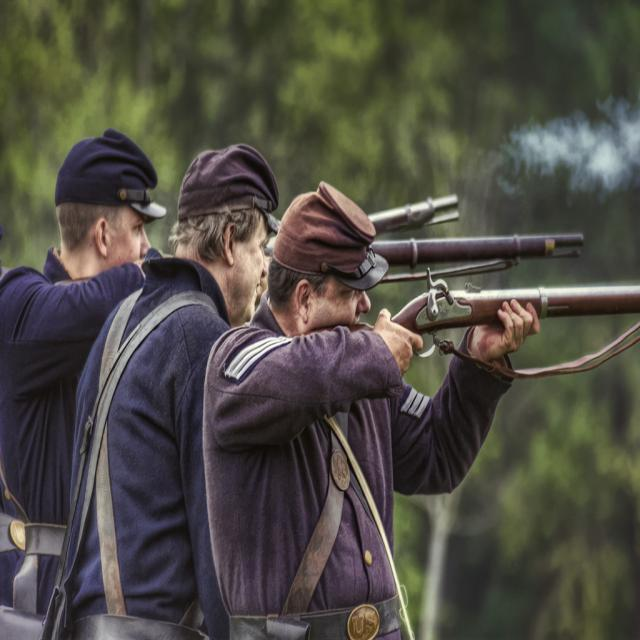weapon: (292, 267, 640, 354)
